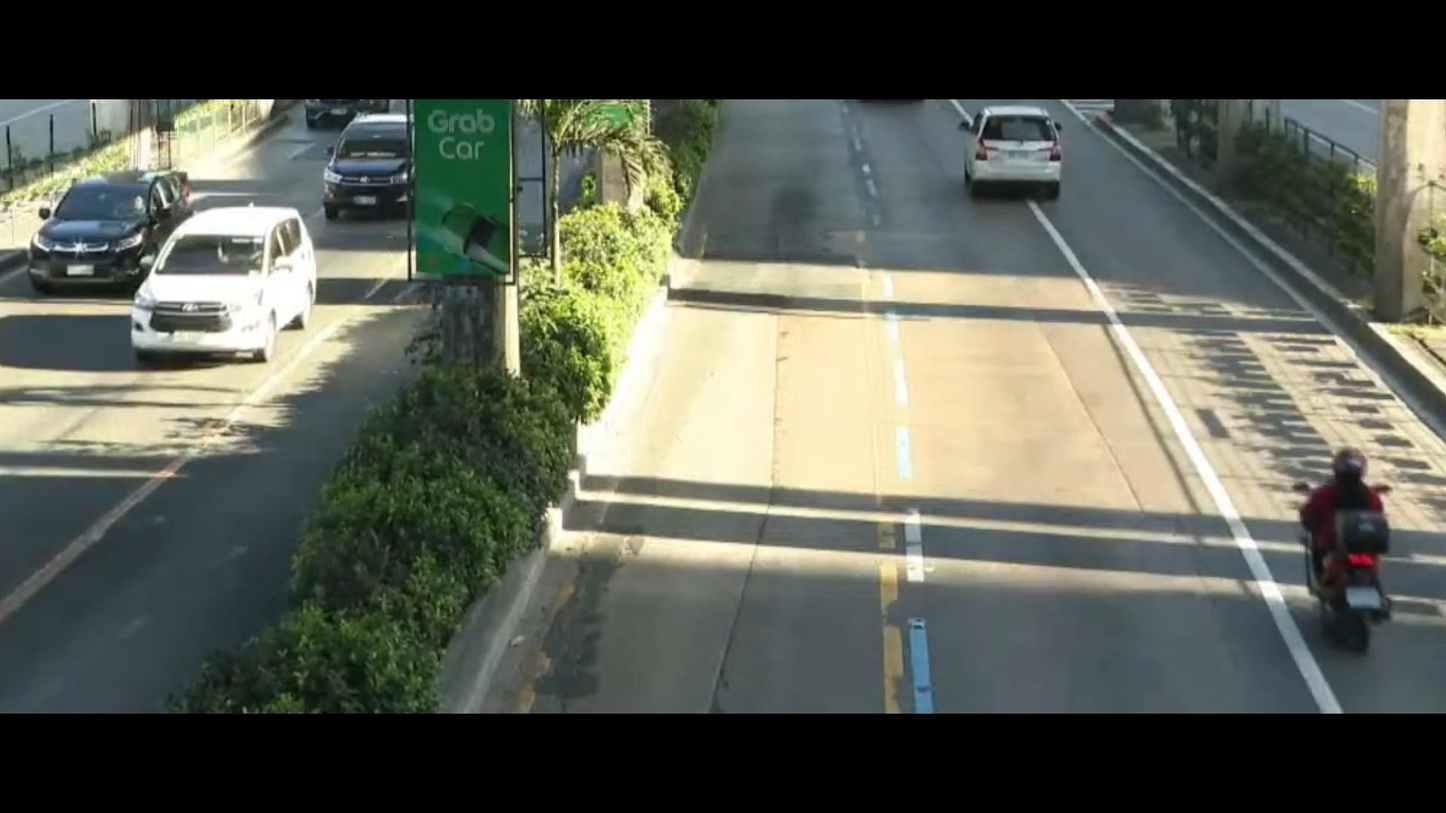Motorcycle: (1284, 420, 1413, 672)
SUV: (114, 202, 337, 381), (13, 147, 204, 283), (955, 83, 1091, 217), (313, 102, 419, 233)
